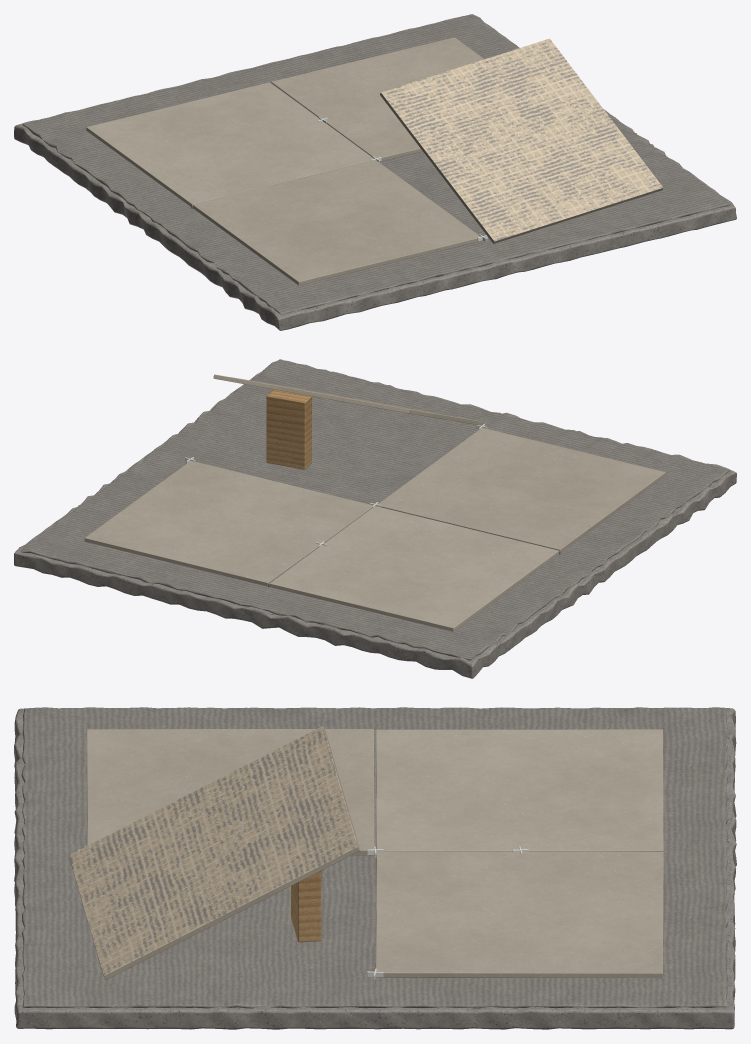
Rendered from gach-op.glb.
3 views of the same model, one above another, from view 1: azimuth 30°, elevation 25°; view 2: azimuth 150°, elevation 25°; view 3: azimuth 270°, elevation 25° (orthographic). The views are drawn at different scales.
Visible parts, largest first — view 1: MortarBed, Tile_4_lifted, Tile_3, Tile_1, Tile_2; view 2: MortarBed, Tile_1, Tile_2, Tile_3, TimberProp, Tile_4_lifted; view 3: MortarBed, Tile_4_lifted, Tile_2, Tile_1, Tile_3, TimberProp.
Boxes of the visible parts, x1,y1,x2,y2 form: MortarBed: (14,14,736,330); Tile_4_lifted: (380,38,663,243); Tile_3: (193,160,481,285); Tile_1: (86,82,373,206); Tile_2: (271,37,483,161); MortarBed: (14,359,736,678); Tile_1: (269,506,558,631); Tile_2: (84,460,372,586); Tile_3: (378,427,665,552); TimberProp: (266,389,311,469); Tile_4_lifted: (213,374,482,425); MortarBed: (14,707,736,1029); Tile_4_lifted: (68,726,360,979); Tile_2: (375,851,663,978); Tile_1: (376,729,663,851); Tile_3: (86,729,374,855); TimberProp: (291,870,321,942).
Bounding box in the file's own units: 1.5 × 0.3317 × 1.5.
Materials: 7 (7 with a texture image).
